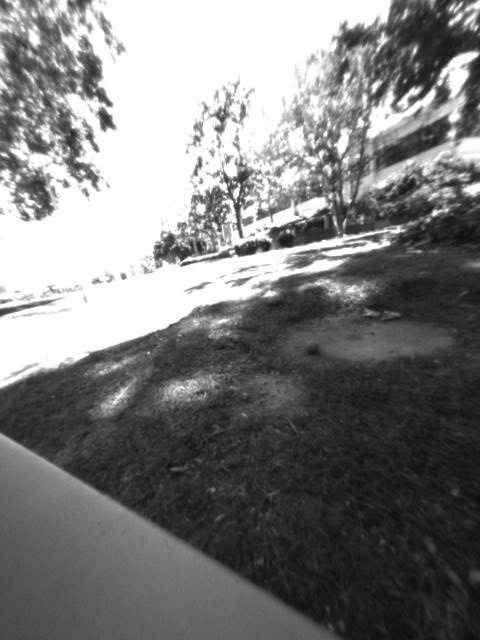dogtoy: (300, 333, 329, 366)
